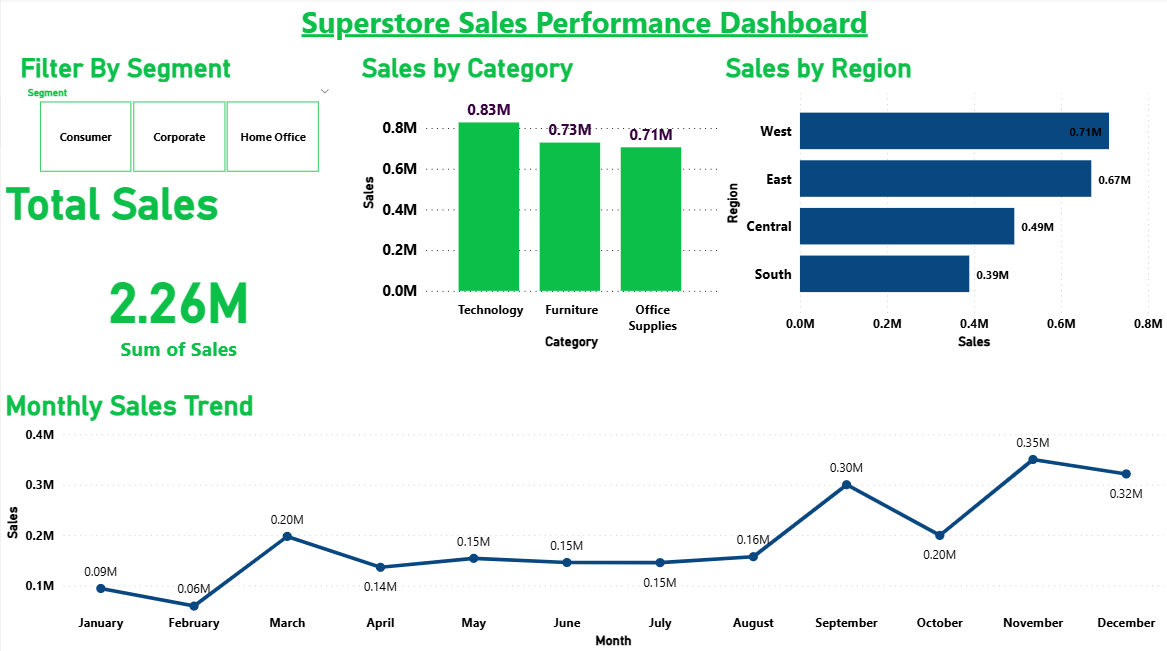

The dashboard page shown, as its layout file describes it:
{"tool":"powerbi","page":{"name":"Page 1","canvas":[1280,720],"ordinal":0},"visuals":[{"type":"card","title":"Total Sales","fields":{"Values":["Sum(train3.Sales)"]},"box":[0,198.6,390.1,232.4],"z":0},{"type":"clusteredColumnChart","title":"Sales by Category","fields":{"Category":["train3.Category"],"Y":["Sum(train3.Sales)"]},"box":[390.1,60.6,400,331],"z":1000},{"type":"lineChart","title":"Monthly Sales Trend","fields":{"Category":["train3.Order Date.Variation.Date Hierarchy.Year","train3.Order Date.Variation.Date Hierarchy.Quarter","train3.Order Date.Variation.Date Hierarchy.Month","train3.Order Date.Variation.Date Hierarchy.Day"],"Y":["Sum(train3.Sales)"]},"box":[0,431,1280.3,288.7],"z":2000},{"type":"clusteredBarChart","title":"Sales by Region","fields":{"Category":["train3.Region"],"Y":["Sum(train3.Sales)"]},"box":[790.1,60.6,490.1,331],"z":3000},{"type":"slicer","title":"Filter By Segment","fields":{"Values":["train3.Segment"]},"box":[16.9,60.6,356.3,138],"z":4000},{"type":"textbox","box":[0,0,1280.3,60.6],"z":4001}]}

Visuals, with their boxes in screenshot pixels (x1, y1, x2, y2), scaled from the page's 1280x720 canvas onto the 1167x651 screenshot:
"Total Sales" card: bbox=(0, 180, 356, 390)
"Sales by Category" clusteredColumnChart: bbox=(356, 55, 720, 354)
"Monthly Sales Trend" lineChart: bbox=(0, 390, 1166, 650)
"Sales by Region" clusteredBarChart: bbox=(720, 55, 1166, 354)
"Filter By Segment" slicer: bbox=(15, 55, 340, 180)
textbox: bbox=(0, 0, 1166, 55)
